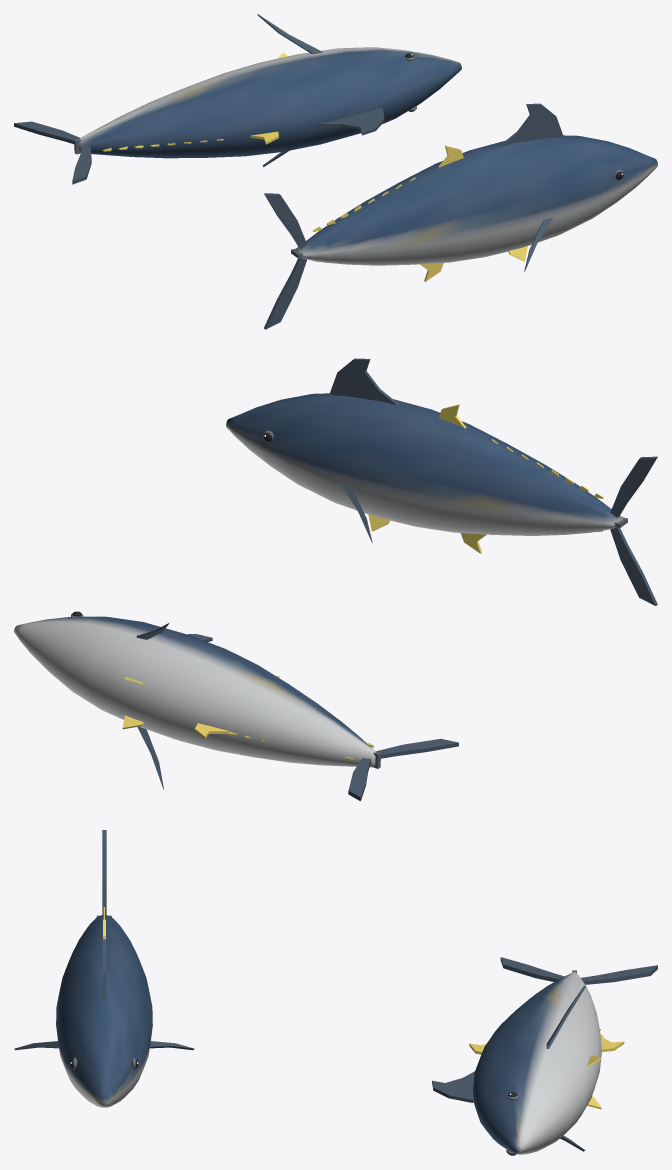
The model's file is tuna_hero.glb.
3 views of the same model, one above another, from view 1: azimuth 30°, elevation 25°; view 2: azimuth 150°, elevation 25°; view 3: azimuth 270°, elevation 25° (orthographic). The views are drawn at different scales.
Parts seen in each view (by area): view 1: Tuna_Display_Body, Tuna_OnDeck_Body, Tuna_Display_Tail, Tuna_Display_Dorsal1, Tuna_OnDeck_Tail, Tuna_OnDeck_Dorsal1; view 2: Tuna_Display_Body, Tuna_OnDeck_Body, Tuna_Display_Tail, Tuna_Display_Dorsal1, Tuna_OnDeck_Tail; view 3: Tuna_OnDeck_Body, Tuna_Display_Body, Tuna_OnDeck_Tail, Tuna_OnDeck_Dorsal1.
Part boxes in pixels (box(x1,y1,x2,y2)): Tuna_Display_Body: box(295, 135, 657, 265); Tuna_OnDeck_Body: box(78, 47, 461, 158); Tuna_Display_Tail: box(264, 193, 307, 329); Tuna_Display_Dorsal1: box(500, 103, 563, 146); Tuna_OnDeck_Tail: box(14, 121, 91, 184); Tuna_OnDeck_Dorsal1: box(319, 107, 384, 135); Tuna_Display_Body: box(226, 393, 622, 535); Tuna_OnDeck_Body: box(14, 616, 375, 767); Tuna_Display_Tail: box(610, 456, 657, 605); Tuna_Display_Dorsal1: box(329, 358, 398, 405); Tuna_OnDeck_Tail: box(348, 738, 458, 801); Tuna_OnDeck_Body: box(473, 972, 601, 1154); Tuna_Display_Body: box(56, 915, 152, 1107); Tuna_OnDeck_Tail: box(500, 957, 657, 984); Tuna_OnDeck_Dorsal1: box(432, 1071, 474, 1102).
Size of the model in its own units: 2.22 by 1.16 by 2.93.
